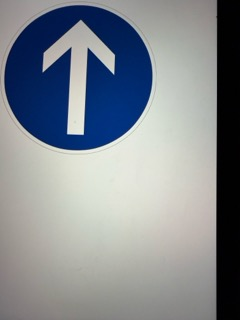GO FORWARD: (1, 2, 157, 155)
